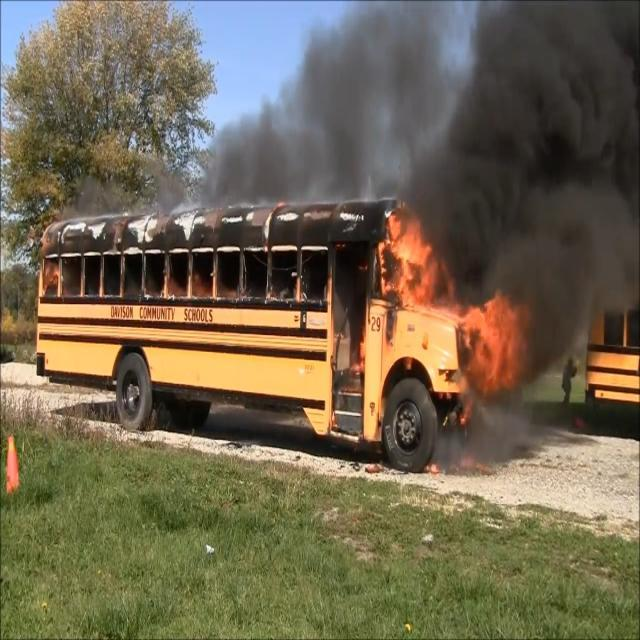Fire: (466, 306, 514, 396), (390, 208, 432, 304)
Smoke: (451, 40, 640, 264), (228, 58, 436, 194)
